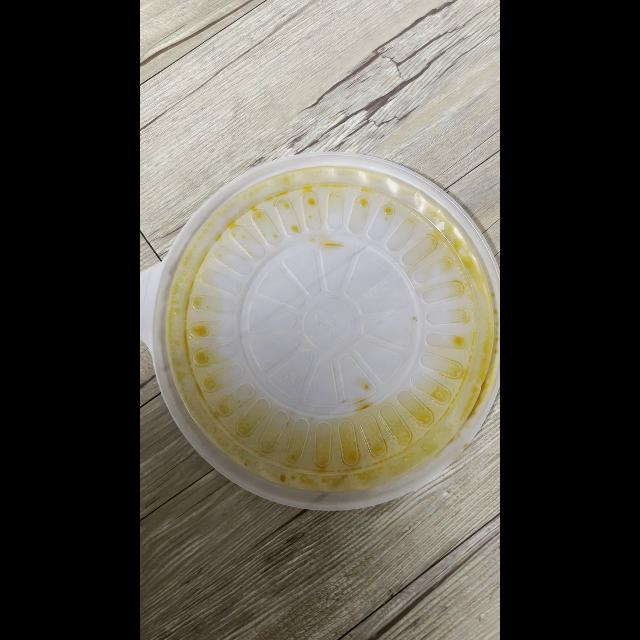dirty: (147, 154, 496, 498)
